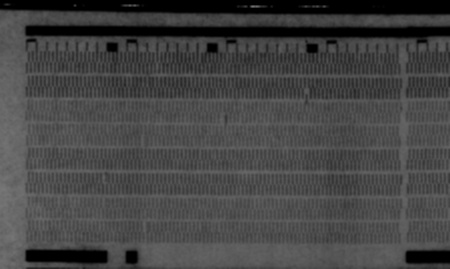Broken hole: (218, 114, 228, 128)
Oblique printing: (301, 87, 313, 103), (99, 172, 111, 186), (138, 135, 149, 148), (140, 220, 150, 232)
